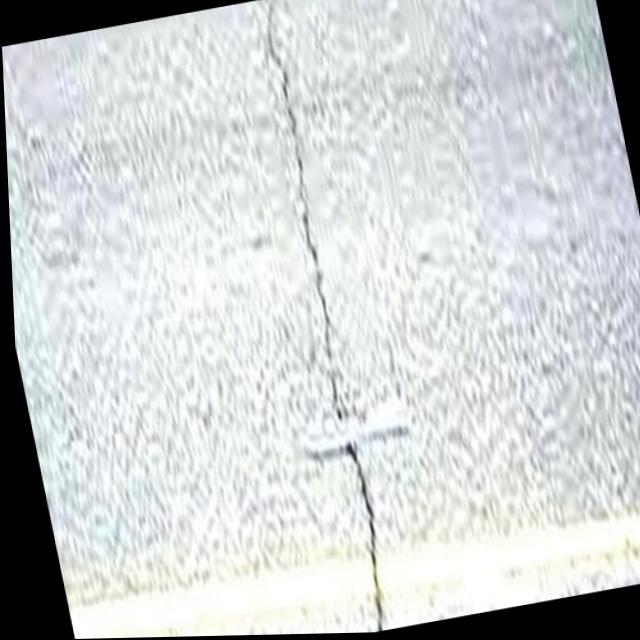Crack: (223, 0, 408, 636)
